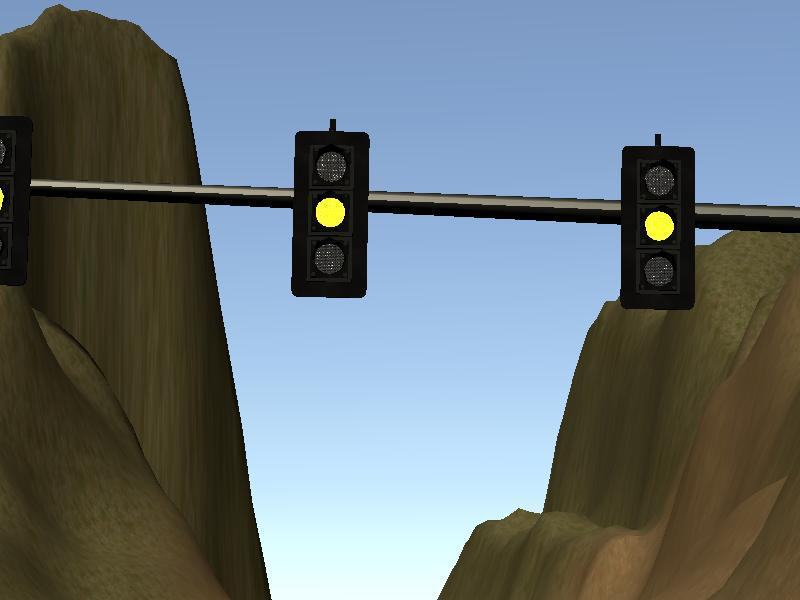Yellow: (294, 132, 366, 296), (622, 149, 695, 309), (1, 122, 30, 281)
